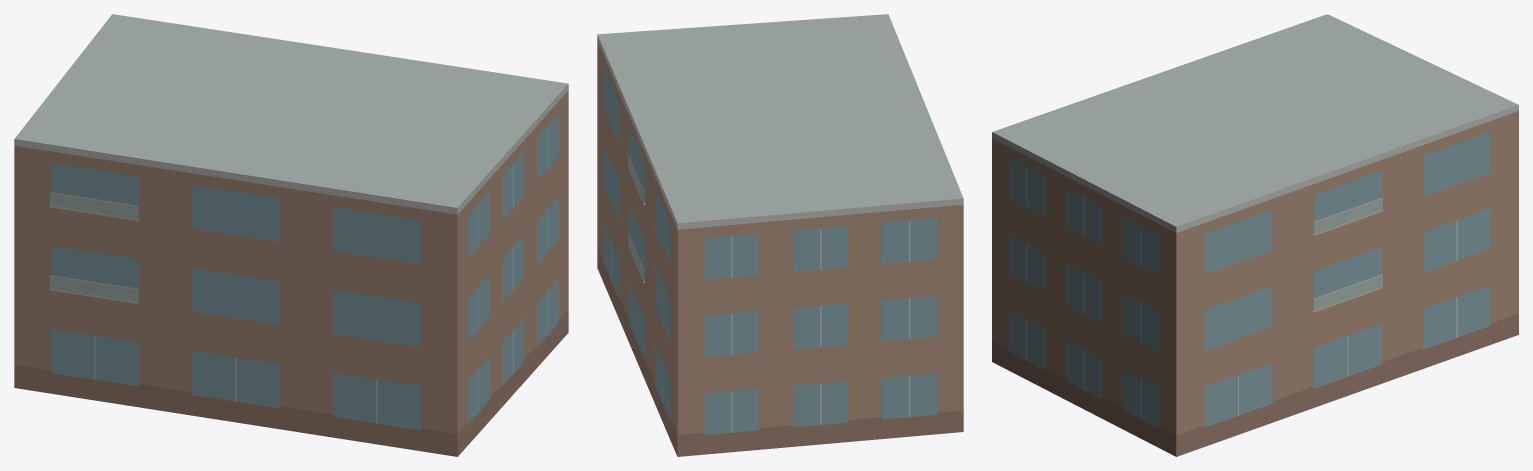
Rendered from survey-upis-32481569.glb.
3 renders of one model, left to right at view 1: azimuth 30°, elevation 25°; view 2: azimuth 150°, elevation 25°; view 3: azimuth 270°, elevation 25°, orthographic. The views are drawn at different scales.
Visible parts, largest first — view 1: survey-upis-32481569.tmp; view 2: survey-upis-32481569.tmp; view 3: survey-upis-32481569.tmp.
Boxes of the visible parts, box(x1,y1,x2,y2) form: survey-upis-32481569.tmp: box(14, 14, 568, 456); survey-upis-32481569.tmp: box(597, 14, 963, 456); survey-upis-32481569.tmp: box(992, 14, 1518, 456).
Size of the model in its own units: 18.18 by 9.15 by 19.
